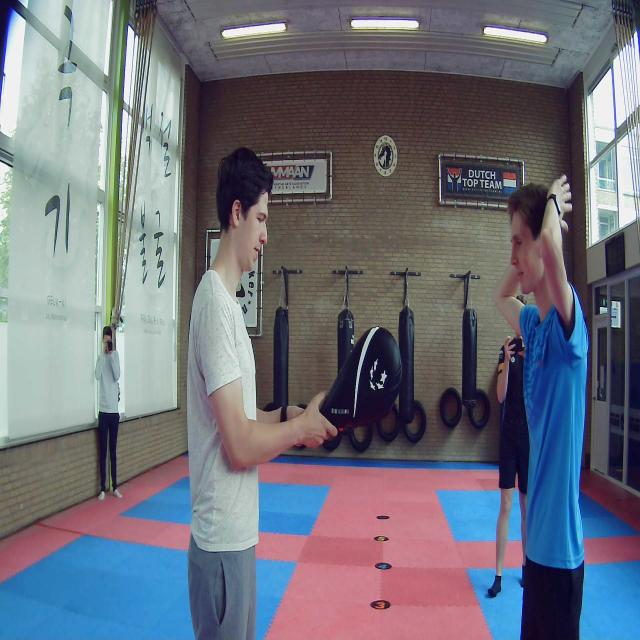paddle: (317, 324, 403, 433)
